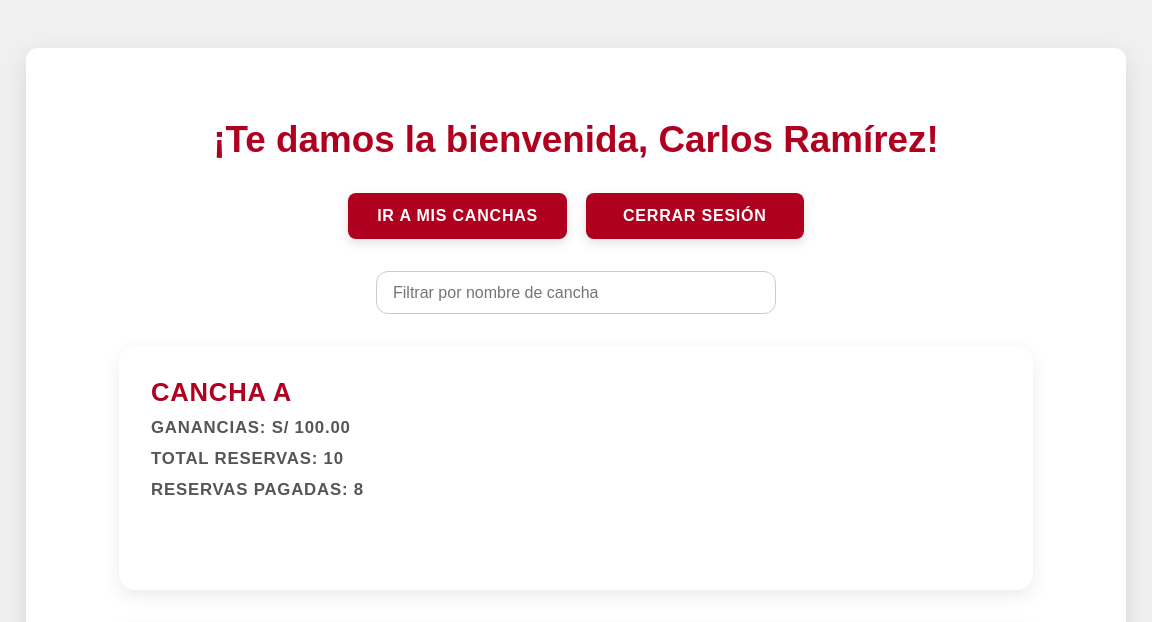
filtra canchas correctamente
Expected: the heading "Cancha A" is shown, [151,378,292,406]
Type "B" into the field with placeholder "Filtrar por nombre de cancha" at (576, 292), box [376,271,776,314]
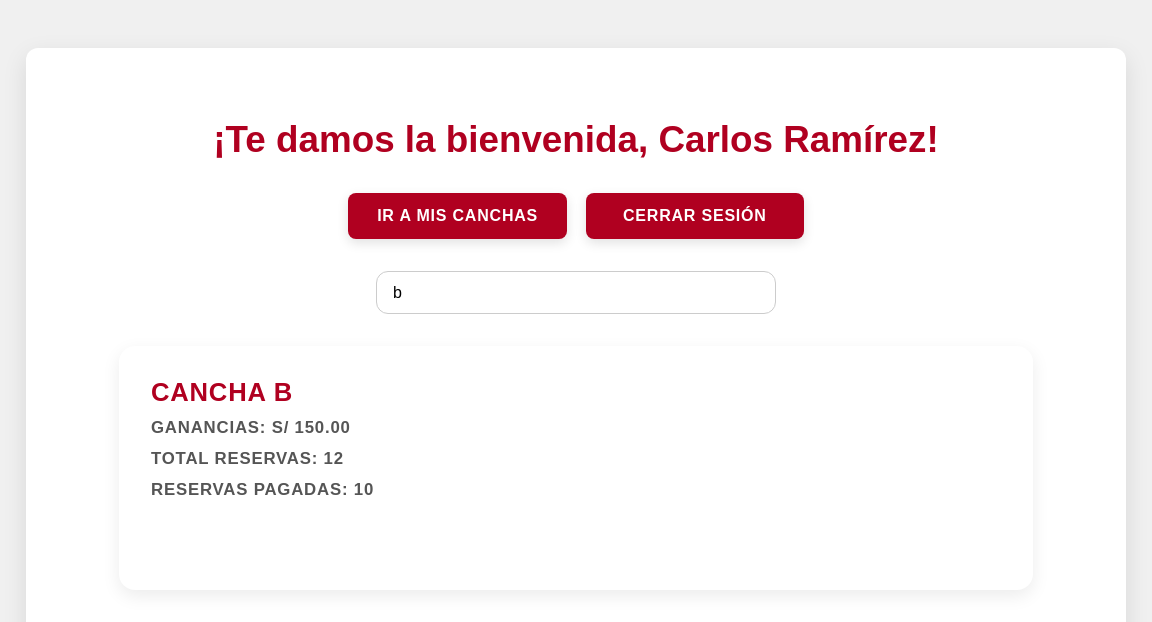
Expected: the heading "Cancha B" is shown, [151,378,293,406]
Expected: the button "Cancha A" is gone
